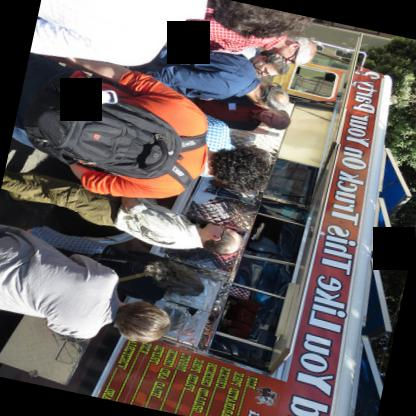backpack: (20, 76, 181, 179)
handbag: (117, 270, 144, 282)
